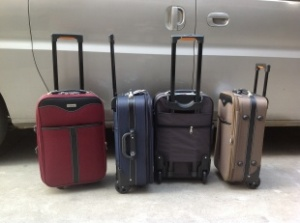luggage: (35, 32, 109, 189)
